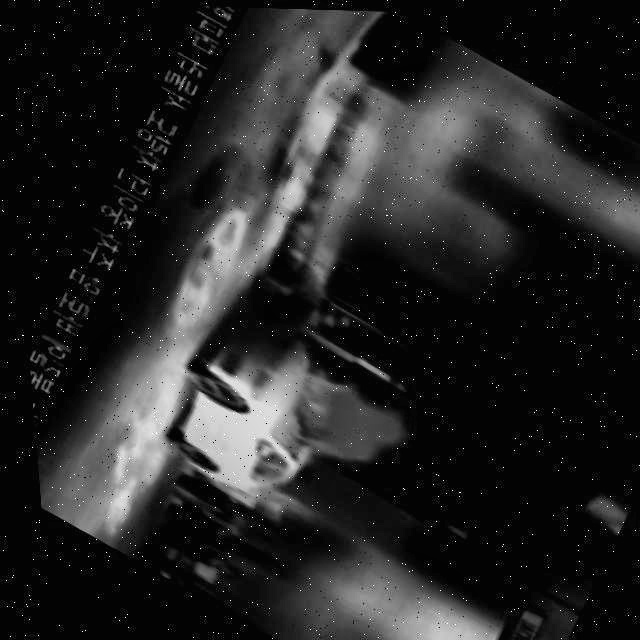Fire: (277, 364, 404, 474)
Smoke: (353, 305, 640, 622)
